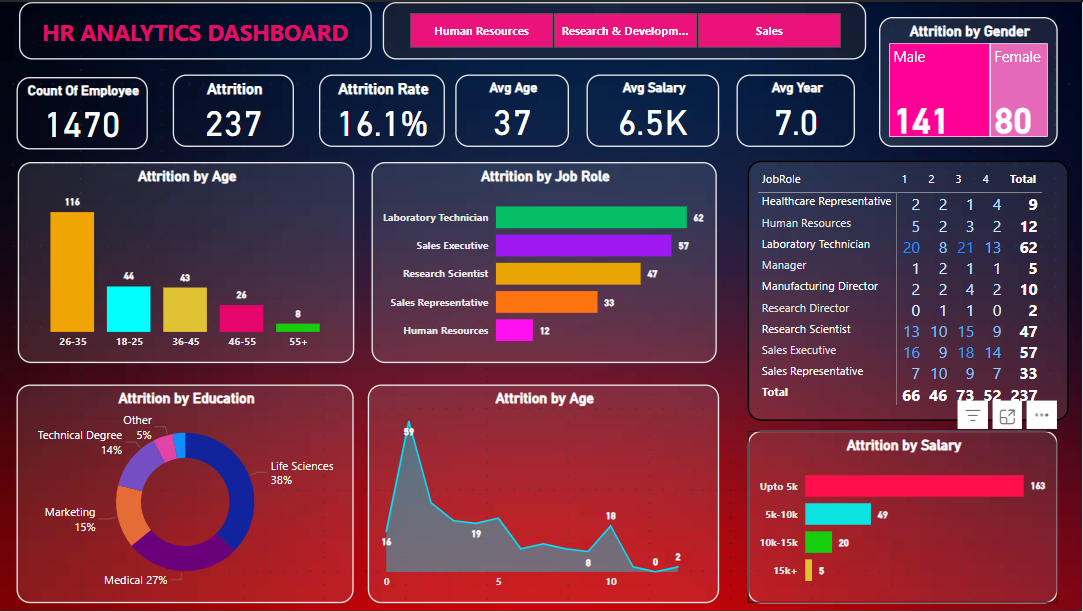

The dashboard page shown, as its layout file describes it:
{"tool":"powerbi","page":{"name":"Page 1","canvas":[1280,720],"ordinal":0},"visuals":[{"type":"card","title":"Count Of Employee","fields":{"Values":["CountNonNull(HR_Analytics.EmpID)"]},"box":[20.7,88.6,155.1,85.7],"z":0},{"type":"card","title":"Attrition","fields":{"Values":["Sum(HR_Analytics.AttritionCount)"]},"box":[205.3,85.7,143.3,85.7],"z":1000},{"type":"card","title":"Attrition Rate","fields":{"Values":["HR_Analytics.AttritionRate"]},"box":[378.1,85.7,149.2,85.7],"z":2000},{"type":"card","title":"Avg Age","fields":{"Values":["Avg(HR_Analytics.Age)"]},"box":[539.1,85.7,134.4,85.7],"z":3000},{"type":"card","title":"Avg Salary","fields":{"Values":["Avg(HR_Analytics.MonthlyIncome)"]},"box":[694.2,85.7,156.6,85.7],"z":4000},{"type":"card","title":"Avg Year","fields":{"Values":["Avg(HR_Analytics.YearsAtCompany)"]},"box":[871.4,85.7,140.3,85.7],"z":5000},{"type":"donutChart","title":"Attrition by Education","fields":{"Category":["HR_Analytics.EducationField"],"Y":["Sum(HR_Analytics.AttritionCount)"]},"box":[20.7,451.9,398.8,258.5],"z":6000},{"type":"columnChart","title":"Attrition by Age","fields":{"Category":["HR_Analytics.AgeGroup"],"Y":["Sum(HR_Analytics.AttritionCount)"]},"box":[22.2,189,397.3,237.8],"z":7000},{"type":"pivotTable","fields":{"Rows":["HR_Analytics.JobRole"],"Columns":["HR_Analytics.JobSatisfaction"],"Values":["Sum(HR_Analytics.AttritionCount)"]},"box":[884.7,187.6,379.6,307.2],"z":8000},{"type":"barChart","title":"Attrition by Salary","fields":{"Category":["HR_Analytics.SalarySlab"],"Y":["Sum(HR_Analytics.AttritionCount)"]},"box":[884.7,506.6,366.3,203.8],"z":8001},{"type":"barChart","title":"Attrition by Job Role","fields":{"Category":["HR_Analytics.JobRole"],"Y":["Sum(HR_Analytics.AttritionCount)"]},"box":[440.1,189,407.6,237.8],"z":8002},{"type":"areaChart","title":"Attrition by Age","fields":{"Category":["HR_Analytics.YearsAtCompany"],"Y":["Sum(HR_Analytics.AttritionCount)"]},"box":[435.7,451.9,415,258.5],"z":8003},{"type":"treemap","title":"Attrition by Gender","fields":{"Group":["HR_Analytics.Gender"],"Values":["Sum(HR_Analytics.AttritionCount)"]},"box":[1039.8,17.7,211.2,153.6],"z":8004},{"type":"slicer","fields":{"Values":["HR_Analytics.Department"]},"box":[453.4,0,571.6,67.9],"z":8005},{"type":"textbox","box":[23.6,0,416.5,67.9],"z":8006}]}

Visuals, with their boxes in screenshot pixels (x1, y1, x2, y2), scaled from the page's 1280x720 canvas onto the 1083x612 screenshot:
"Count Of Employee" card: pyautogui.locateOnScreen(18, 75, 149, 148)
"Attrition" card: pyautogui.locateOnScreen(174, 73, 295, 146)
"Attrition Rate" card: pyautogui.locateOnScreen(320, 73, 446, 146)
"Avg Age" card: pyautogui.locateOnScreen(456, 73, 570, 146)
"Avg Salary" card: pyautogui.locateOnScreen(587, 73, 720, 146)
"Avg Year" card: pyautogui.locateOnScreen(737, 73, 856, 146)
"Attrition by Education" donutChart: pyautogui.locateOnScreen(18, 384, 355, 604)
"Attrition by Age" columnChart: pyautogui.locateOnScreen(19, 161, 355, 363)
pivotTable - HR_Analytics.JobRole x HR_Analytics.JobSatisfaction: pyautogui.locateOnScreen(749, 159, 1070, 421)
"Attrition by Salary" barChart: pyautogui.locateOnScreen(749, 431, 1058, 604)
"Attrition by Job Role" barChart: pyautogui.locateOnScreen(372, 161, 717, 363)
"Attrition by Age" areaChart: pyautogui.locateOnScreen(369, 384, 720, 604)
"Attrition by Gender" treemap: pyautogui.locateOnScreen(880, 15, 1058, 146)
slicer - HR_Analytics.Department: pyautogui.locateOnScreen(384, 0, 867, 58)
textbox: pyautogui.locateOnScreen(20, 0, 372, 58)
